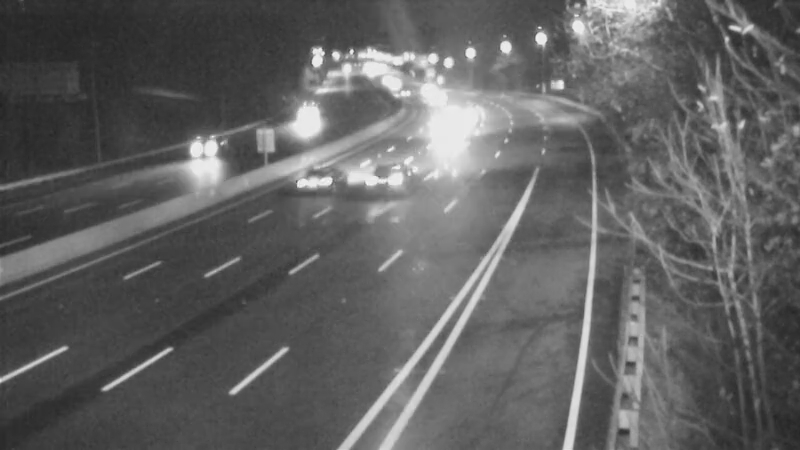vehicle: (350, 142, 430, 222), (268, 142, 348, 222), (367, 58, 417, 108), (400, 66, 450, 116), (377, 71, 427, 121), (411, 72, 461, 122), (441, 90, 491, 140), (422, 107, 472, 157), (178, 124, 228, 174), (274, 95, 324, 145)
